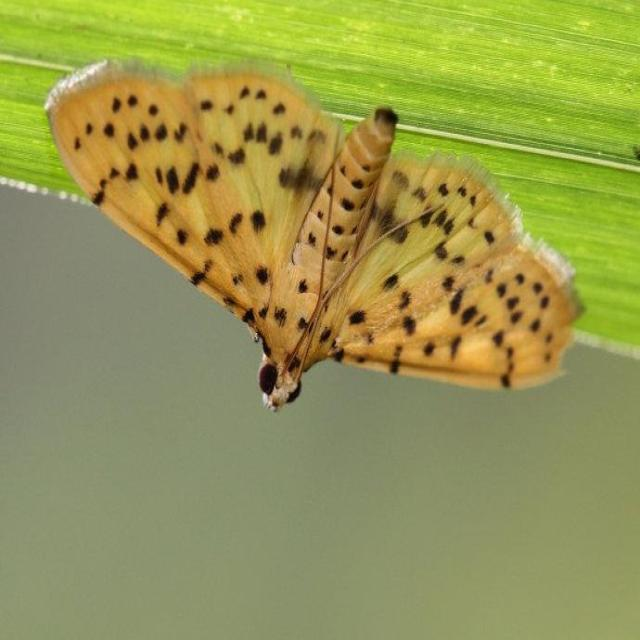peach borer: (43, 52, 606, 426)
